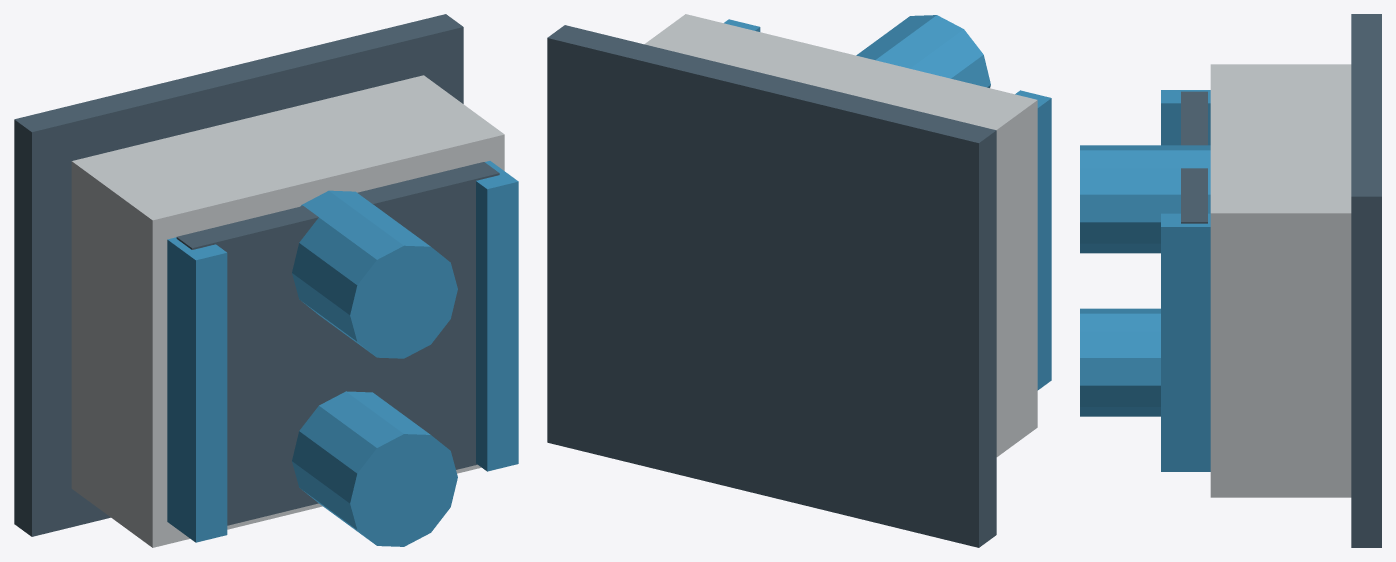
Rendered from b_supply.glb.
3 views of the same model, side by side, from view 1: azimuth 30°, elevation 25°; view 2: azimuth 150°, elevation 25°; view 3: azimuth 270°, elevation 25° (orthographic). The views are drawn at different scales.
Visible parts, largest first — view 1: main_structure, foundation, roof, silo_1, silo_-1, support_-1.6199999999999999, support_1.6199999999999999; view 2: foundation, main_structure, silo_1, support_-1.6199999999999999; view 3: main_structure, foundation, support_1.6199999999999999, silo_1, silo_-1, roof, support_-1.6199999999999999.
Boxes of the visible parts, x1=… form: main_structure: x1=71, y1=75, x2=504, y2=547; foundation: x1=14, y1=14, x2=463, y2=536; roof: x1=176, y1=162, x2=499, y2=525; silo_1: x1=292, y1=190, x2=457, y2=358; silo_-1: x1=292, y1=391, x2=457, y2=546; support_-1.6199999999999999: x1=167, y1=237, x2=227, y2=542; support_1.6199999999999999: x1=476, y1=161, x2=518, y2=471; foundation: x1=547, y1=25, x2=996, y2=547; main_structure: x1=644, y1=14, x2=1037, y2=456; silo_1: x1=856, y1=15, x2=990, y2=87; support_-1.6199999999999999: x1=1015, y1=90, x2=1051, y2=390; main_structure: x1=1210, y1=64, x2=1351, y2=497; foundation: x1=1351, y1=14, x2=1381, y2=547; support_1.6199999999999999: x1=1161, y1=213, x2=1210, y2=471; silo_1: x1=1080, y1=145, x2=1210, y2=253; silo_-1: x1=1080, y1=308, x2=1160, y2=416; roof: x1=1181, y1=91, x2=1207, y2=223; support_-1.6199999999999999: x1=1161, y1=90, x2=1210, y2=145.
Bounding box in the file's own units: 4.8 × 4.3 × 3.35.
